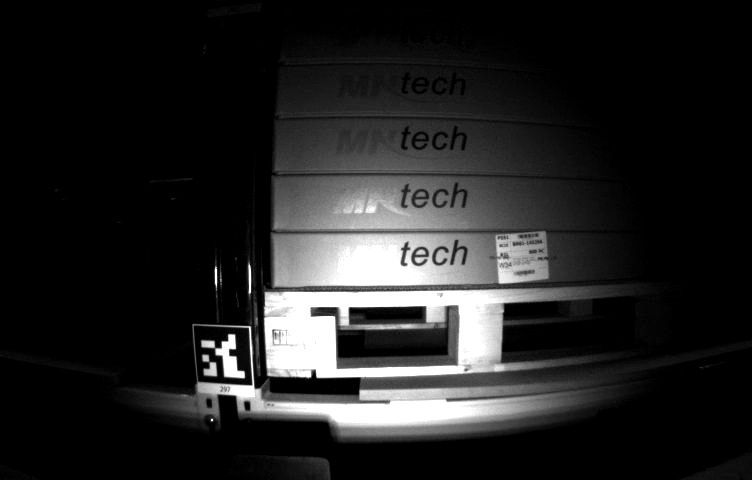True Barcode: (490, 234, 553, 286)
